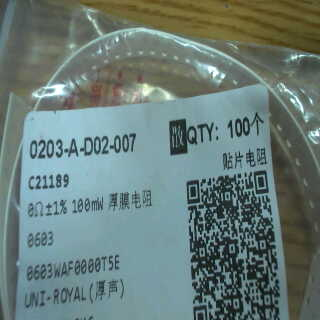0R: (24, 195, 106, 252)
